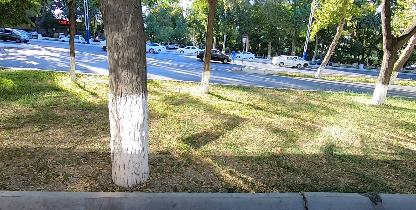car: (270, 54, 304, 71)
tree: (97, 0, 157, 189), (369, 1, 416, 106), (200, 0, 219, 96), (62, 0, 81, 86)
